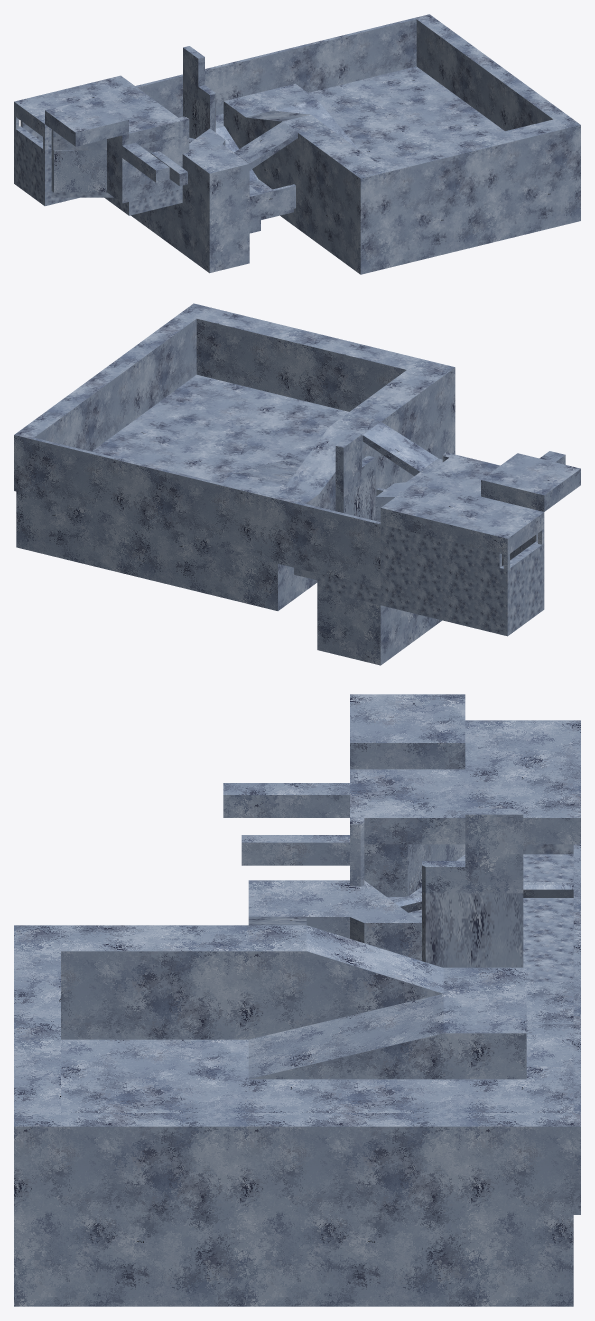
File: map.glb
3 renders of one model, top to bottom at view 1: azimuth 30°, elevation 25°; view 2: azimuth 150°, elevation 25°; view 3: azimuth 270°, elevation 25°, orthographic. The views are drawn at different scales.
Parts seen in each view (by area): view 1: entity0_brush57, entity0_brush63, entity0_brush56, entity0_brush59, entity0_brush50, entity0_brush64, entity0_brush60, entity0_brush18, entity0_brush12, entity0_brush5, entity0_brush6, entity0_brush32 (+27 smaller); view 2: entity0_brush56, entity0_brush63, entity0_brush59, entity0_brush64, entity0_brush57, entity0_brush32, entity0_brush33, entity0_brush60, entity0_brush44, entity0_brush43, entity0_brush4, entity0_brush18 (+16 smaller); view 3: entity0_brush64, entity0_brush56, entity0_brush57, entity0_brush60, entity0_brush58, entity0_brush63, entity0_brush52, entity0_brush18, entity0_brush5, entity0_brush29, entity0_brush54, entity0_brush2 (+19 smaller).
Boxes of the visible parts, x1=… form: entity0_brush57: x1=298, y1=130, x2=580, y2=274; entity0_brush63: x1=377, y1=116, x2=580, y2=218; entity0_brush56: x1=308, y1=66, x2=502, y2=161; entity0_brush59: x1=241, y1=14, x2=430, y2=96; entity0_brush50: x1=182, y1=144, x2=249, y2=273; entity0_brush64: x1=416, y1=15, x2=567, y2=130; entity0_brush60: x1=298, y1=126, x2=388, y2=225; entity0_brush18: x1=45, y1=97, x2=128, y2=146; entity0_brush12: x1=51, y1=149, x2=106, y2=192; entity0_brush5: x1=113, y1=98, x2=182, y2=144; entity0_brush6: x1=14, y1=126, x2=51, y2=192; entity0_brush32: x1=135, y1=65, x2=222, y2=117; entity0_brush56: x1=16, y1=418, x2=294, y2=594; entity0_brush63: x1=179, y1=303, x2=421, y2=411; entity0_brush59: x1=14, y1=433, x2=239, y2=545; entity0_brush64: x1=16, y1=314, x2=196, y2=451; entity0_brush57: x1=137, y1=374, x2=455, y2=489; entity0_brush32: x1=262, y1=494, x2=380, y2=588; entity0_brush33: x1=380, y1=524, x2=501, y2=617; entity0_brush60: x1=347, y1=359, x2=455, y2=477; entity0_brush44: x1=317, y1=590, x2=441, y2=665; entity0_brush43: x1=208, y1=486, x2=380, y2=610; entity0_brush4: x1=444, y1=496, x2=544, y2=555; entity0_brush18: x1=481, y1=453, x2=580, y2=511; entity0_brush64: x1=61, y1=1113, x2=573, y2=1214; entity0_brush56: x1=248, y1=1067, x2=573, y2=1306; entity0_brush57: x1=14, y1=1039, x2=248, y2=1306; entity0_brush60: x1=14, y1=925, x2=248, y2=1039; entity0_brush58: x1=248, y1=994, x2=443, y2=1079; entity0_brush63: x1=14, y1=951, x2=60, y2=1214; entity0_brush52: x1=306, y1=925, x2=443, y2=1025; entity0_brush18: x1=350, y1=694, x2=465, y2=769; entity0_brush5: x1=350, y1=769, x2=465, y2=844; entity0_brush29: x1=422, y1=891, x2=523, y2=967; entity0_brush54: x1=443, y1=993, x2=526, y2=1079; entity0_brush2: x1=465, y1=769, x2=580, y2=844.
Size of the model in its own units: 996 by 368 by 628.
Materials: 1 (1 with a texture image).
